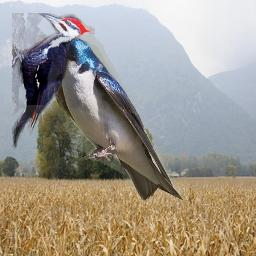Swallow: (34, 35, 185, 203)
Woodpecker: (12, 13, 95, 150)
